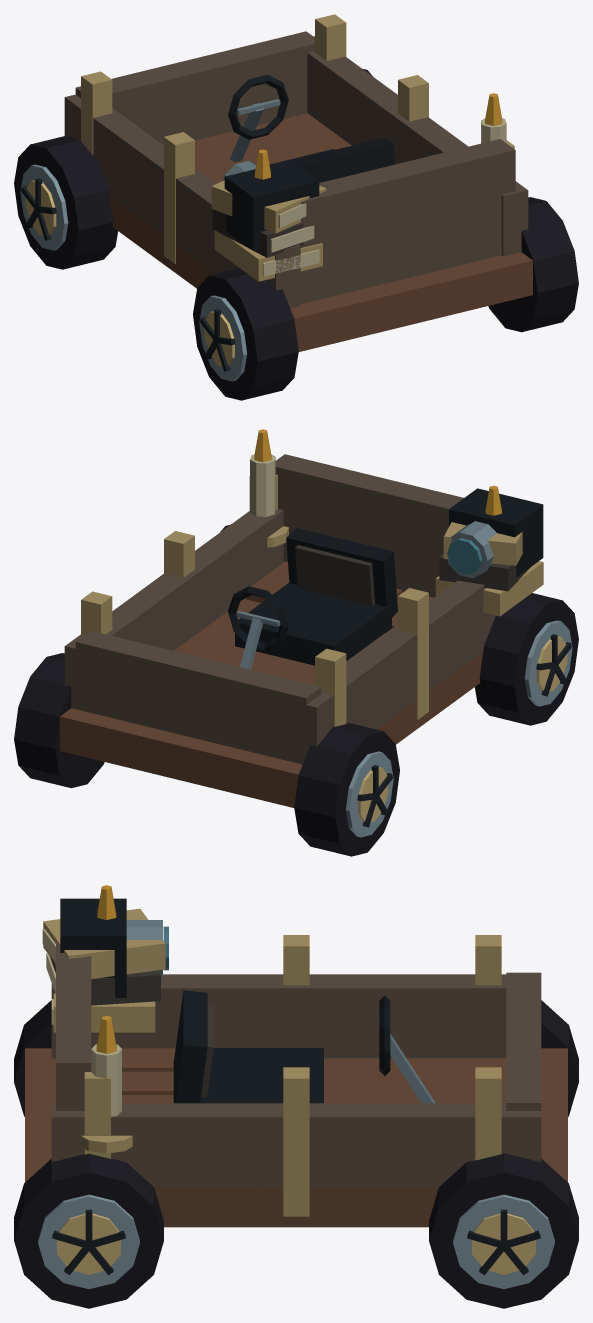
Rendered from kart.glb.
The picture shows the model from 3 angles, top to bottom: view 1: azimuth 30°, elevation 25°; view 2: azimuth 150°, elevation 25°; view 3: azimuth 270°, elevation 25°; orthographic projection. The views are drawn at different scales.
Parts seen in each view (by area): view 1: identity-wagon-wagon-timber-coach, wheel-rear-left, wheel-front-left, wheel-rear-right, identity-wagon-motif-books, identity-wagon-driver-cockpit, identity-wagon-motif-camera, identity-wagon-motif-candles; view 2: identity-wagon-wagon-timber-coach, identity-wagon-driver-cockpit, wheel-front-left, wheel-rear-left, wheel-front-right, identity-wagon-motif-camera, identity-wagon-motif-books, identity-wagon-motif-candles; view 3: identity-wagon-wagon-timber-coach, wheel-front-right, wheel-rear-right, identity-wagon-driver-cockpit, identity-wagon-motif-books, identity-wagon-motif-camera, identity-wagon-motif-candles, wheel-front-left, wheel-rear-left.
Boxes of the visible parts, bbox=[...] form: identity-wagon-wagon-timber-coach: bbox=[64, 14, 532, 351]; wheel-rear-left: bbox=[193, 268, 298, 400]; wheel-front-left: bbox=[14, 136, 117, 269]; wheel-rear-right: bbox=[488, 197, 578, 332]; identity-wagon-motif-books: bbox=[211, 180, 326, 281]; identity-wagon-driver-cockpit: bbox=[228, 74, 395, 182]; identity-wagon-motif-camera: bbox=[223, 160, 319, 250]; identity-wagon-motif-candles: bbox=[254, 93, 506, 179]; identity-wagon-wagon-timber-coach: bbox=[60, 454, 495, 807]; identity-wagon-driver-cockpit: bbox=[228, 528, 397, 669]; wheel-front-left: bbox=[294, 723, 399, 856]; wheel-rear-left: bbox=[475, 593, 578, 725]; wheel-front-right: bbox=[14, 653, 104, 788]; identity-wagon-motif-camera: bbox=[447, 488, 543, 578]; identity-wagon-motif-books: bbox=[435, 522, 543, 616]; identity-wagon-motif-candles: bbox=[250, 429, 501, 547]; identity-wagon-wagon-timber-coach: bbox=[25, 935, 567, 1227]; wheel-front-right: bbox=[429, 1153, 578, 1308]; wheel-rear-right: bbox=[14, 1153, 163, 1308]; identity-wagon-driver-cockpit: bbox=[173, 990, 435, 1103]; identity-wagon-motif-books: bbox=[42, 908, 165, 1032]; identity-wagon-motif-camera: bbox=[60, 898, 168, 997]; identity-wagon-motif-candles: bbox=[80, 885, 132, 1153]; wheel-front-left: bbox=[541, 1000, 578, 1116]; wheel-rear-left: bbox=[14, 1000, 51, 1116].
Size of the model in its own units: 2.07 by 1.33 by 2.56.
